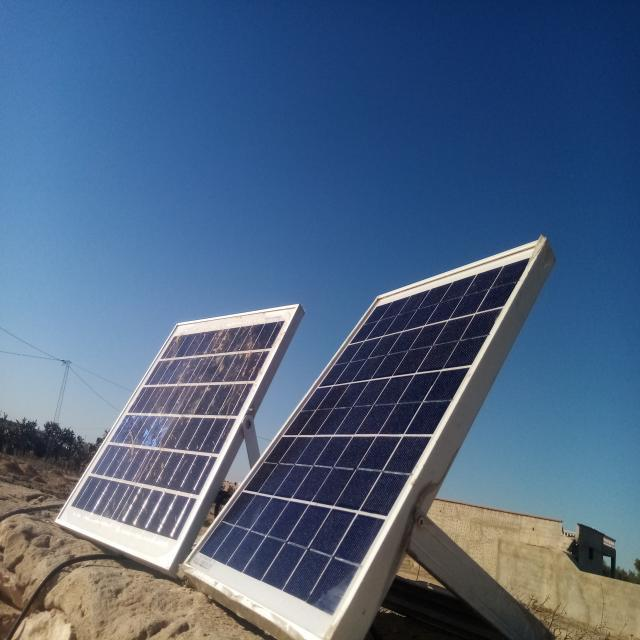faulty: (56, 306, 301, 571)
no faulty: (182, 237, 546, 640)
